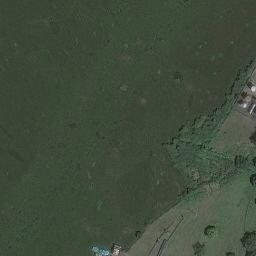tree: (234, 155, 246, 169), (204, 226, 216, 239)
